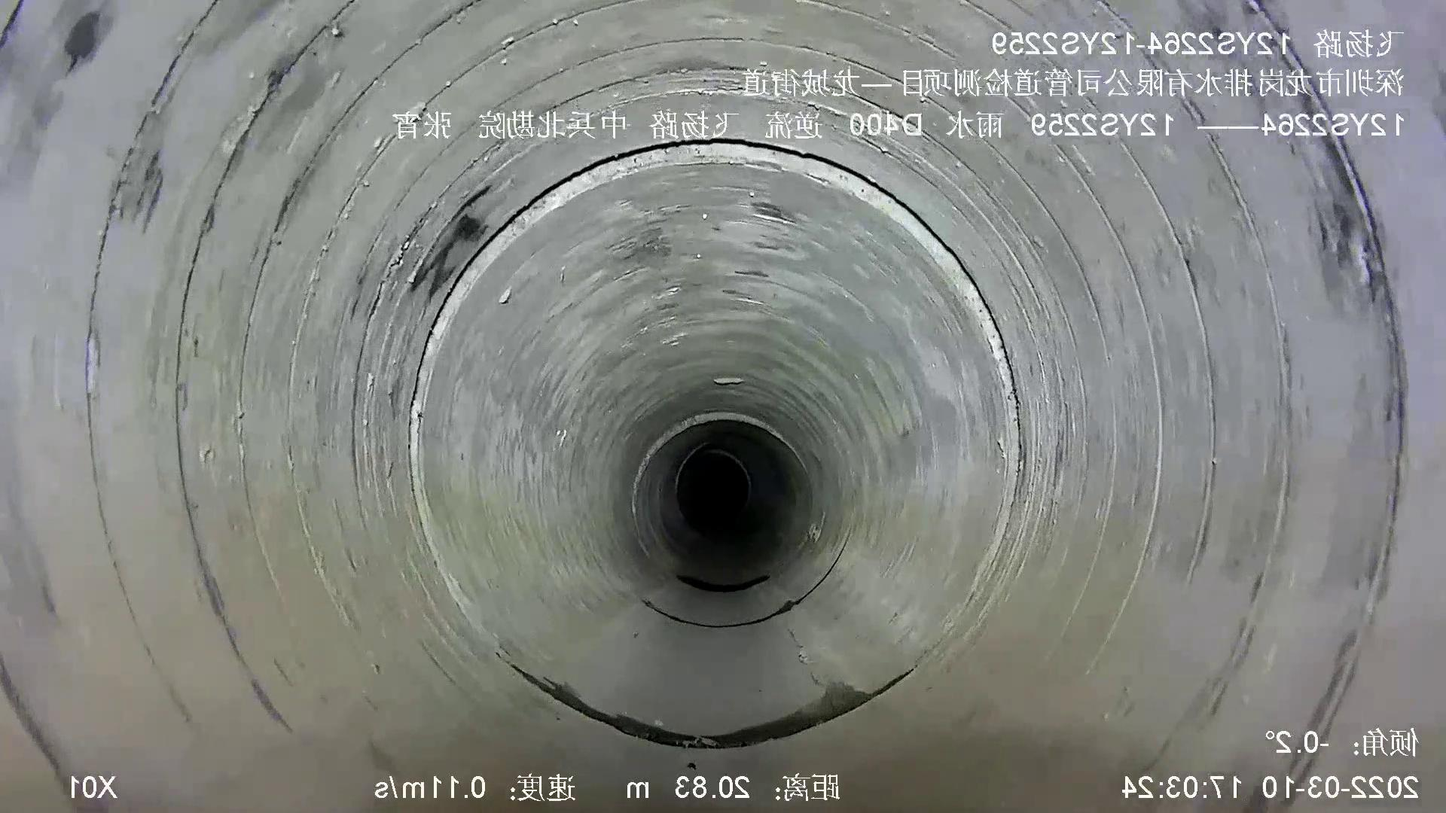CKTJ: (408, 141, 1025, 631), (630, 411, 795, 530)
